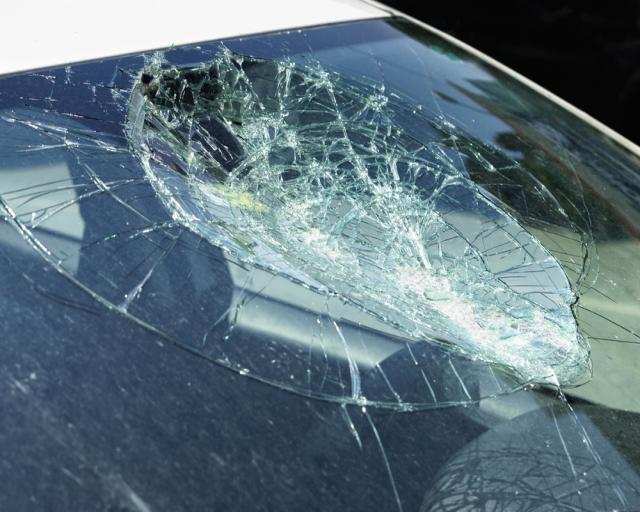glass shatter: (0, 16, 640, 512)
